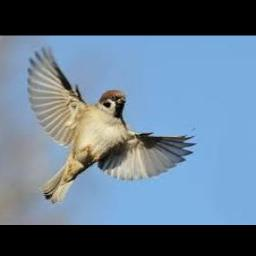Sparrow: (28, 45, 197, 205)
